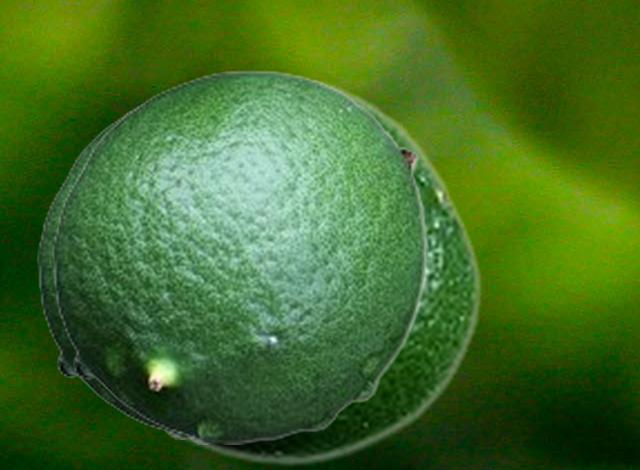calamansi: (52, 69, 427, 443), (152, 75, 483, 467), (37, 91, 187, 438)
